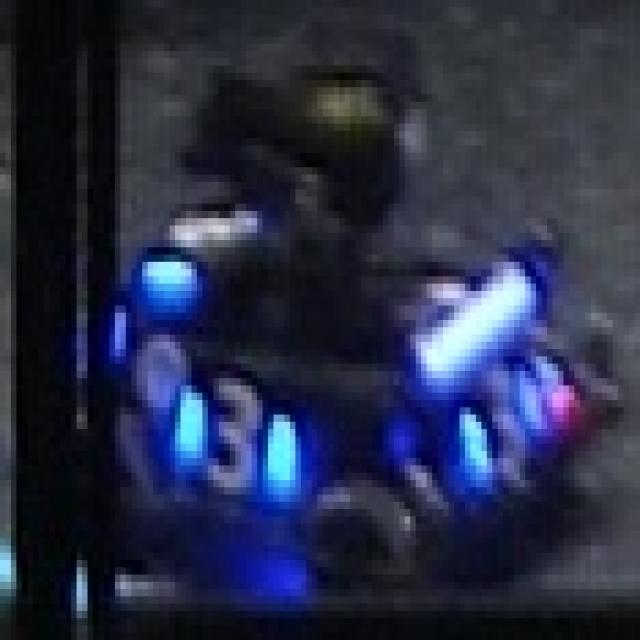B3: (158, 378, 300, 509), (459, 357, 542, 488)
